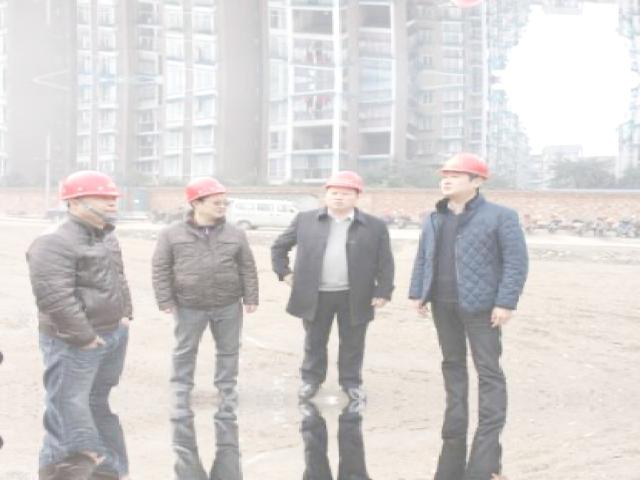Helmet: (57, 165, 131, 206), (433, 149, 500, 183), (182, 172, 234, 205), (323, 166, 372, 197)
